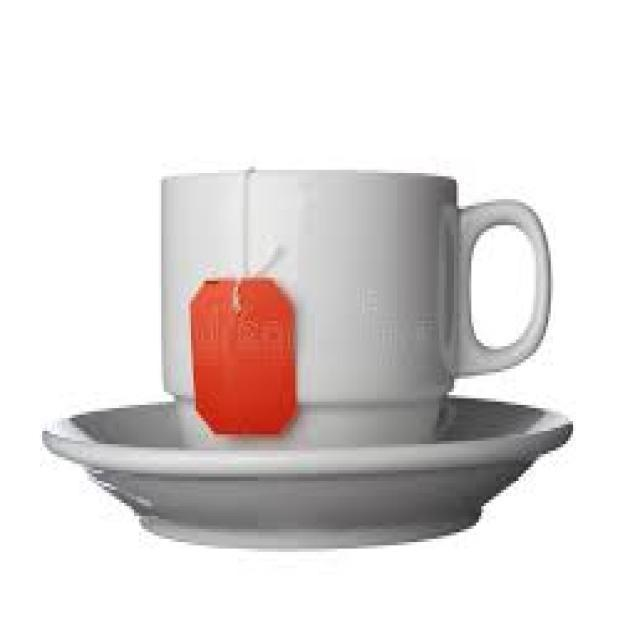taza: (136, 159, 558, 443)
